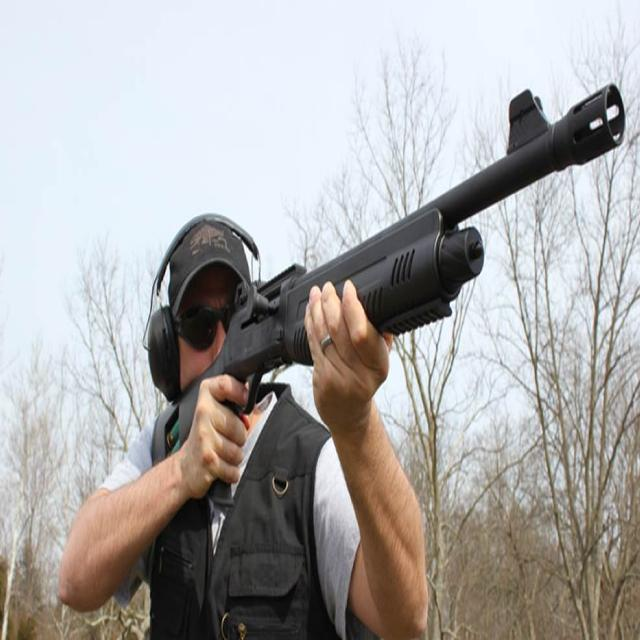ShotGun: (149, 85, 626, 466)
